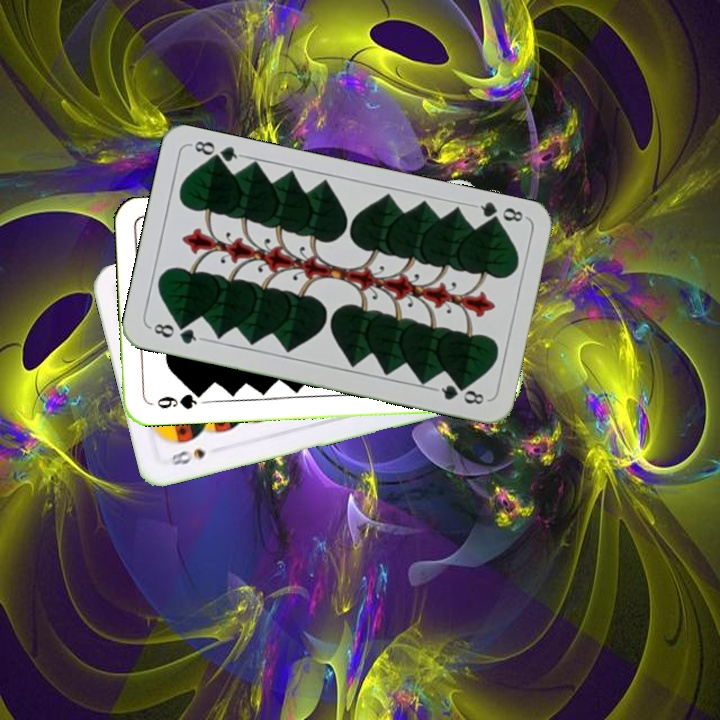G8: (470, 198, 529, 229), (146, 319, 205, 347)
G9: (153, 388, 206, 412)
S8: (167, 444, 209, 468)
